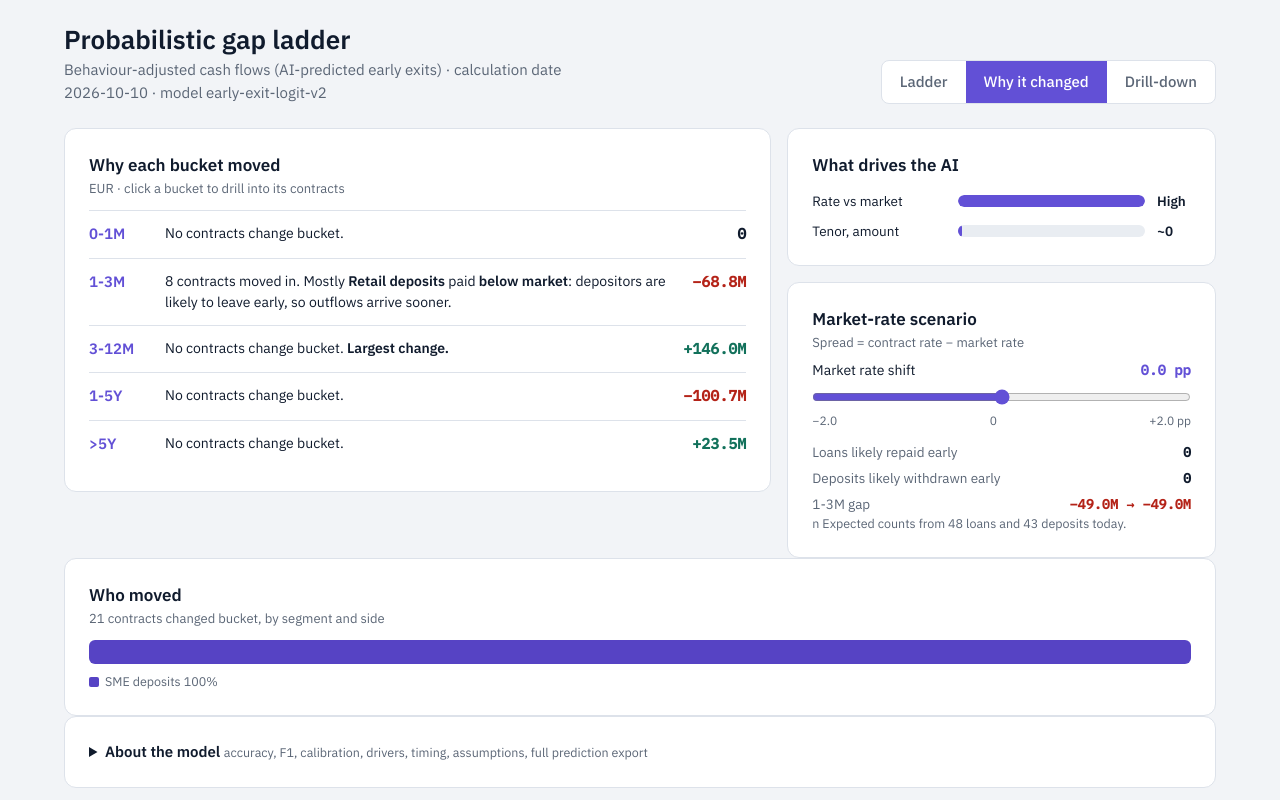
Why it changed explains buckets, drivers, movers and runs the market-rate scenario
Expected: the text "Retail deposits" is shown, [348, 272, 445, 290]
Expected: the text "Largest change." is shown, [344, 339, 449, 357]
Set the slider labelled "Market rate shift" to "-0.8": [929, 397] box [812, 389, 1191, 405]
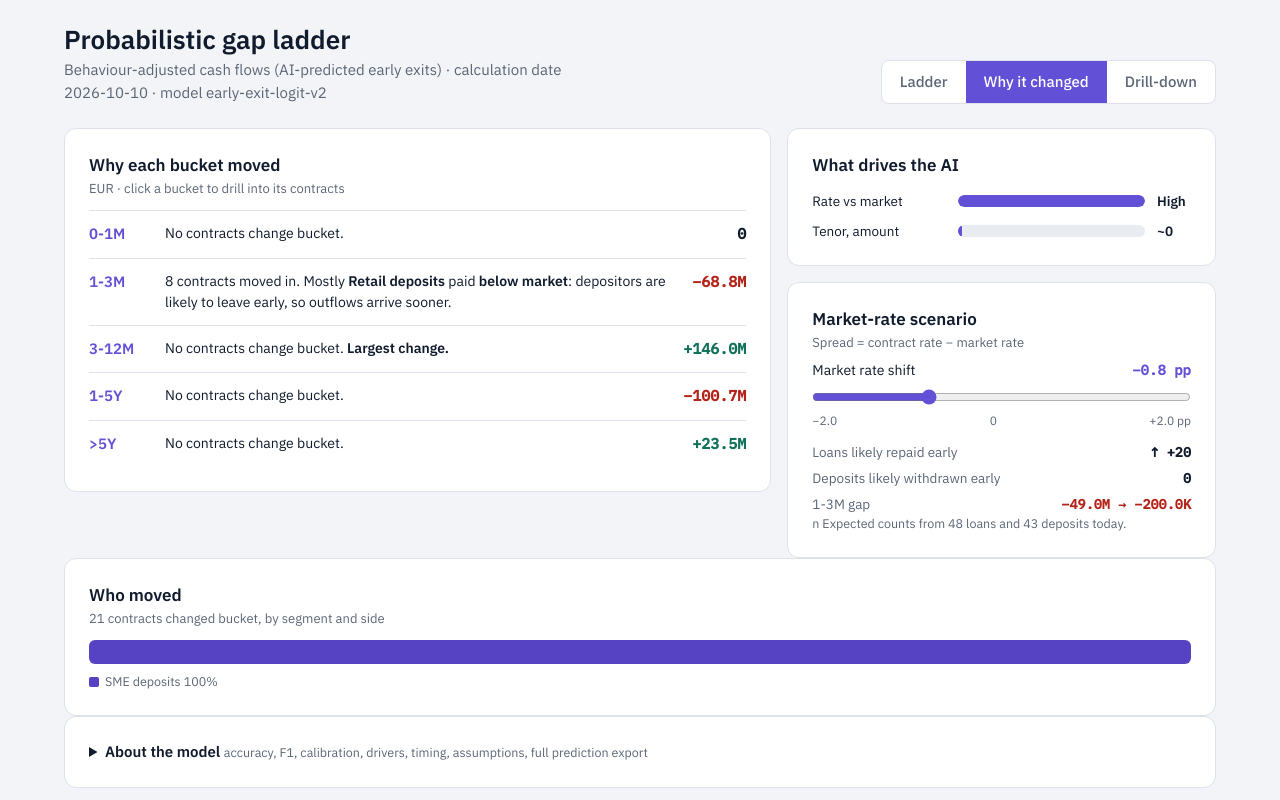
Expected: the text "↑ +20" is shown, [1150, 442, 1191, 462]
